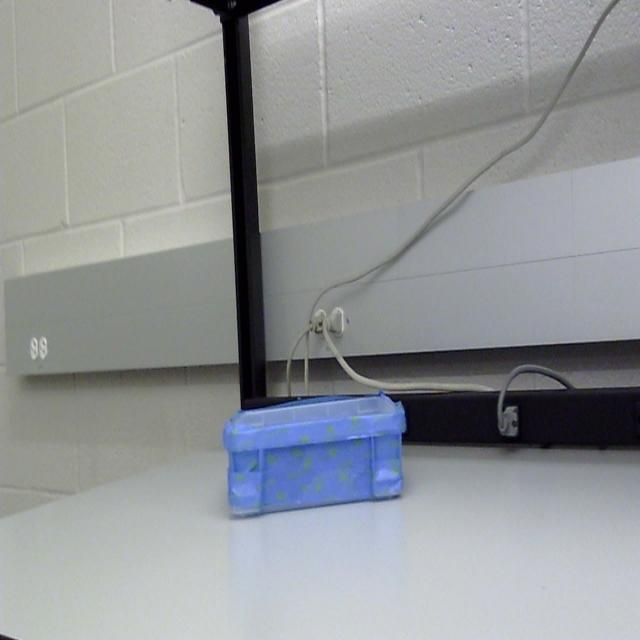bucket: (222, 391, 407, 523)
